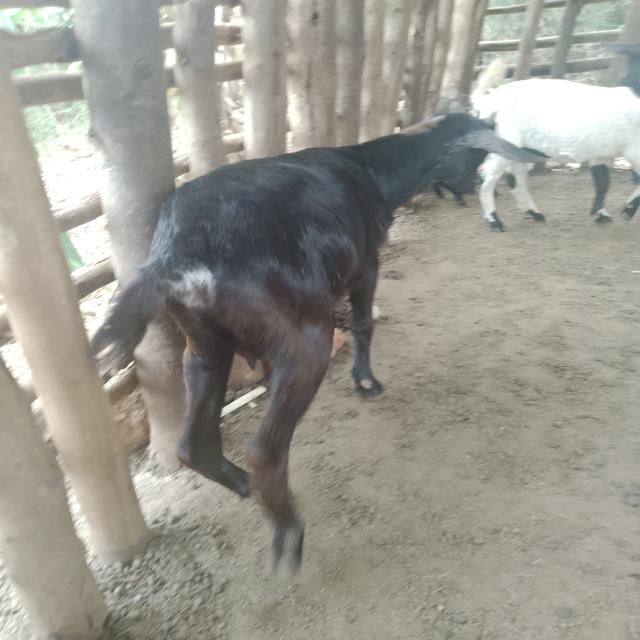goat: (52, 83, 593, 608)
